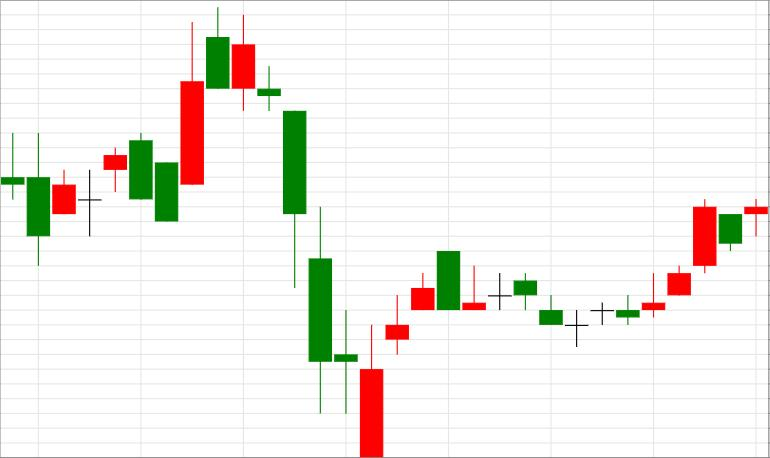bearish_engulfing_fall: (360, 252, 459, 457)
